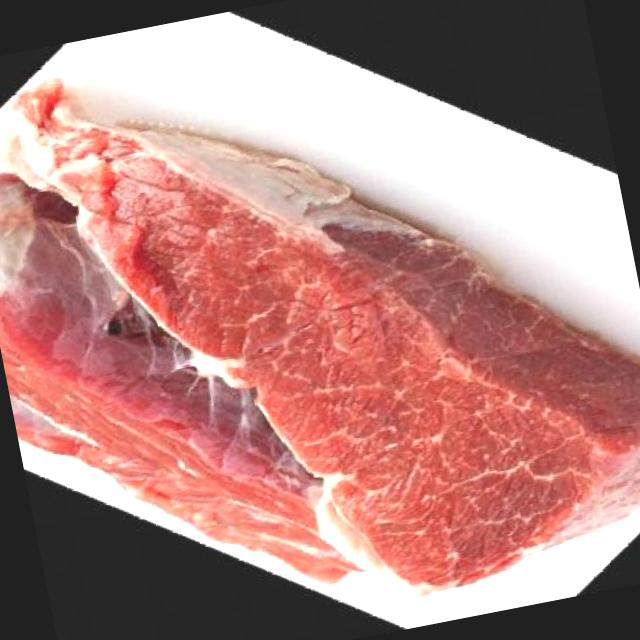beef: (0, 0, 640, 640), (0, 114, 371, 640)
